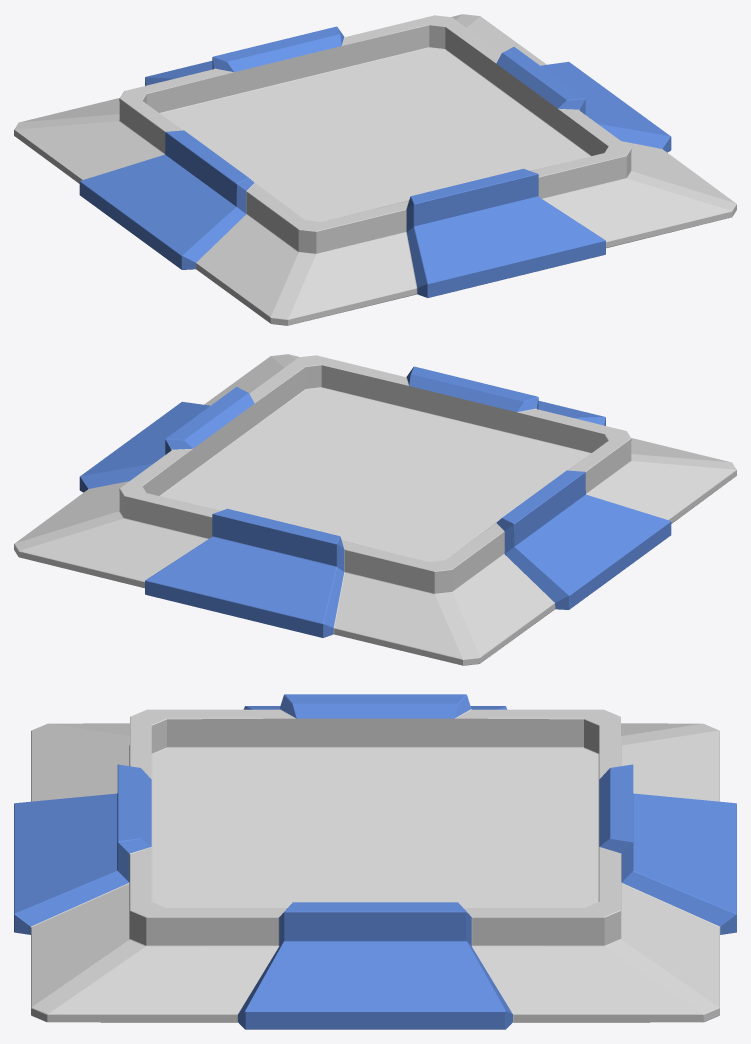
Rendered from Lock.fbx.
3 renders of one model, top to bottom at view 1: azimuth 30°, elevation 25°; view 2: azimuth 150°, elevation 25°; view 3: azimuth 270°, elevation 25°, orthographic. The views are drawn at different scales.
Visible parts, largest first — view 1: keybase.001; view 2: keybase.001; view 3: keybase.001.
Part boxes in pixels (<box>): keybase.001: <box>14,14,736,325</box>; keybase.001: <box>14,354,736,665</box>; keybase.001: <box>14,694,736,1029</box>.
Bounding box in the file's own units: 410 × 46.34 × 410.
